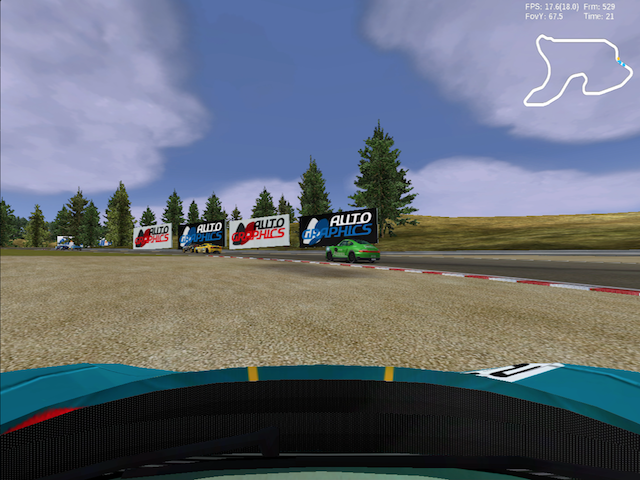Boxer96: (325, 239, 381, 263)
Cavallo360: (193, 244, 223, 255)
